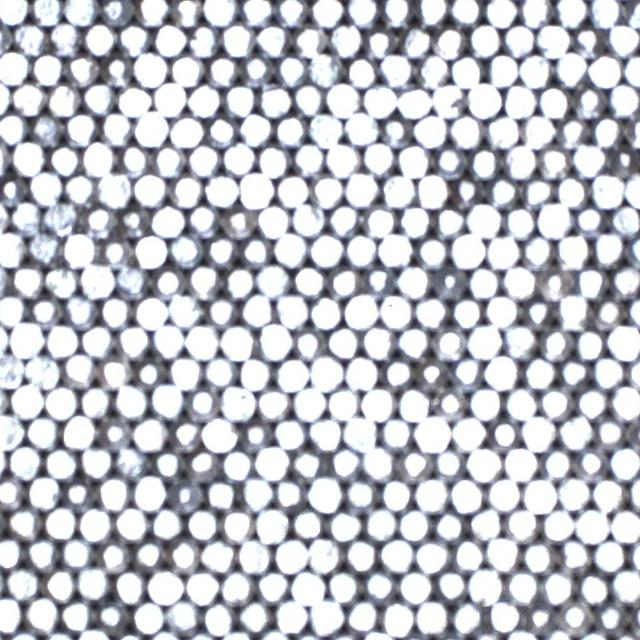tool: (256, 322, 292, 358), (97, 170, 132, 206), (505, 568, 540, 604), (503, 445, 538, 481), (342, 414, 377, 450), (379, 414, 414, 450), (306, 536, 341, 572), (273, 597, 308, 633), (151, 80, 186, 116), (570, 142, 606, 177), (414, 416, 450, 451), (449, 476, 484, 512), (484, 536, 519, 572), (184, 569, 219, 605), (413, 476, 448, 512), (504, 506, 539, 542), (236, 538, 272, 573), (132, 354, 168, 389), (343, 293, 378, 328), (520, 415, 555, 450), (219, 569, 254, 604), (166, 537, 201, 572), (326, 568, 361, 603), (148, 568, 183, 603), (169, 113, 204, 148), (290, 570, 325, 605), (485, 476, 520, 511), (220, 324, 255, 359), (557, 414, 592, 449), (396, 143, 431, 178), (466, 445, 501, 480), (62, 232, 97, 267), (396, 386, 431, 421), (79, 262, 114, 297), (255, 568, 290, 603), (466, 82, 501, 117), (467, 385, 502, 420), (466, 323, 501, 358), (379, 537, 414, 572), (219, 384, 254, 419), (540, 569, 575, 604), (413, 113, 448, 148), (486, 598, 521, 633), (133, 111, 168, 146), (378, 292, 412, 328), (398, 568, 432, 604), (468, 568, 502, 604), (556, 232, 590, 268), (484, 292, 518, 328), (344, 598, 380, 632), (25, 595, 59, 631), (520, 538, 556, 572), (166, 293, 202, 327), (502, 82, 536, 118), (308, 597, 342, 633), (522, 476, 556, 512), (26, 412, 60, 448), (78, 442, 112, 478), (360, 444, 394, 480), (9, 382, 43, 418), (7, 443, 41, 479), (236, 598, 272, 632), (557, 475, 591, 510), (307, 476, 341, 511), (204, 172, 238, 207), (116, 82, 150, 117), (291, 142, 325, 177), (43, 445, 77, 480), (520, 113, 554, 148), (344, 536, 378, 571), (44, 322, 79, 356), (80, 322, 114, 357), (131, 475, 166, 509), (151, 322, 185, 357), (327, 445, 361, 480), (202, 415, 236, 450), (396, 263, 430, 298), (503, 323, 537, 358), (116, 142, 151, 176), (556, 293, 590, 328), (256, 143, 290, 178), (221, 140, 255, 175), (202, 600, 236, 635), (450, 600, 484, 635), (325, 141, 359, 176), (151, 142, 185, 177), (201, 537, 235, 572), (449, 114, 484, 148), (274, 292, 308, 327), (291, 262, 326, 296), (5, 565, 39, 600), (361, 324, 395, 359), (396, 324, 431, 358), (256, 385, 290, 420), (114, 383, 148, 418), (274, 537, 308, 572), (432, 385, 466, 420), (80, 141, 114, 176), (574, 446, 608, 481), (344, 171, 379, 205), (557, 537, 591, 572), (308, 294, 342, 329), (165, 598, 200, 632), (432, 445, 466, 480), (574, 508, 608, 543), (415, 599, 449, 634), (378, 232, 412, 267), (536, 144, 570, 179), (62, 293, 97, 327), (344, 475, 378, 510), (131, 536, 165, 571), (150, 382, 184, 417), (204, 293, 238, 328), (450, 232, 484, 267), (326, 81, 360, 116), (432, 265, 467, 299), (308, 232, 342, 267), (238, 172, 272, 207), (520, 296, 554, 331), (558, 599, 593, 633), (44, 200, 78, 235), (344, 355, 378, 390), (468, 506, 502, 541), (9, 321, 43, 356), (539, 326, 573, 361), (273, 231, 307, 266), (591, 476, 625, 511), (168, 477, 203, 511), (362, 83, 397, 117), (361, 140, 395, 175), (362, 568, 396, 603), (594, 598, 628, 633), (326, 508, 361, 542), (220, 507, 254, 542), (522, 600, 557, 634), (589, 296, 624, 330), (61, 475, 95, 510), (42, 566, 76, 600), (76, 566, 110, 600), (326, 324, 360, 358), (255, 22, 289, 56), (254, 445, 288, 479), (153, 22, 187, 56), (26, 474, 60, 508), (381, 172, 415, 206), (96, 475, 130, 509), (221, 22, 255, 56), (26, 352, 60, 386), (78, 384, 112, 418), (204, 476, 238, 510), (132, 172, 166, 206), (344, 110, 378, 144), (574, 264, 608, 298), (380, 600, 414, 634), (291, 385, 325, 419), (98, 294, 132, 328), (255, 262, 289, 296), (44, 262, 78, 296), (503, 264, 537, 298), (451, 416, 485, 450), (12, 140, 46, 174), (309, 172, 343, 206), (239, 293, 273, 327), (204, 233, 238, 267), (520, 234, 554, 268), (44, 384, 78, 418), (432, 326, 466, 360), (275, 173, 309, 207), (308, 416, 342, 450), (430, 82, 464, 116), (168, 418, 202, 452), (116, 21, 150, 55), (467, 145, 501, 179), (169, 232, 203, 266), (308, 111, 342, 145), (379, 114, 413, 148), (397, 447, 431, 481), (256, 82, 290, 116), (415, 538, 449, 572), (504, 386, 538, 420), (484, 234, 518, 268), (115, 323, 149, 357), (77, 506, 111, 540), (291, 325, 325, 359), (467, 22, 501, 56), (432, 508, 466, 542), (254, 507, 288, 541), (291, 81, 325, 115), (205, 113, 239, 147), (293, 22, 327, 56), (239, 476, 273, 510), (433, 144, 467, 178), (415, 173, 449, 207), (379, 51, 413, 85), (169, 172, 203, 206), (61, 414, 95, 448), (486, 114, 520, 148), (484, 354, 518, 388), (98, 414, 132, 448), (132, 416, 166, 450), (10, 262, 44, 296), (114, 444, 148, 478), (116, 262, 150, 296), (12, 20, 46, 54), (308, 50, 342, 84), (308, 355, 342, 389), (94, 598, 128, 632), (27, 230, 61, 264), (132, 51, 166, 85), (415, 234, 449, 268), (43, 504, 77, 538), (553, 51, 587, 85), (518, 53, 552, 87), (590, 173, 624, 207), (59, 598, 93, 632), (61, 352, 95, 386), (345, 53, 379, 87), (360, 386, 394, 420), (290, 446, 324, 480), (380, 355, 414, 389), (168, 354, 202, 388), (114, 506, 148, 540), (274, 357, 308, 391), (238, 356, 272, 390), (414, 295, 448, 329), (538, 385, 572, 419), (538, 266, 572, 300), (587, 53, 621, 87), (132, 232, 166, 266), (398, 202, 432, 236), (540, 506, 574, 540), (184, 506, 218, 540), (9, 200, 43, 234), (415, 357, 449, 391), (274, 52, 308, 86), (449, 356, 483, 390), (8, 505, 42, 539), (115, 204, 149, 238), (186, 203, 220, 237), (590, 354, 624, 388), (362, 506, 396, 540), (450, 54, 484, 88), (184, 385, 218, 419), (361, 262, 395, 296), (503, 143, 536, 178), (25, 535, 58, 570), (185, 323, 218, 358), (451, 537, 484, 572), (327, 385, 360, 420), (434, 567, 467, 602), (134, 295, 167, 330), (100, 234, 133, 269), (487, 416, 520, 451), (150, 204, 185, 237), (540, 446, 573, 481), (186, 142, 219, 177), (186, 447, 219, 482), (329, 22, 362, 56), (607, 22, 640, 56), (536, 22, 569, 56), (380, 476, 413, 510), (450, 294, 483, 328), (577, 570, 610, 604), (503, 22, 536, 56), (49, 20, 82, 54), (397, 84, 430, 118), (223, 264, 256, 298), (555, 174, 588, 208), (328, 264, 361, 298), (29, 169, 62, 203), (220, 447, 253, 481), (274, 416, 307, 450), (572, 85, 606, 118), (274, 112, 307, 146), (467, 265, 501, 298), (46, 82, 80, 115), (131, 599, 164, 633), (153, 265, 186, 299), (344, 232, 377, 266), (556, 116, 589, 150), (607, 82, 640, 116), (256, 203, 290, 236), (239, 112, 272, 146), (202, 354, 236, 387), (432, 25, 466, 58), (29, 293, 62, 327), (273, 475, 306, 509), (12, 80, 45, 114), (327, 202, 361, 235), (573, 325, 606, 359), (187, 265, 220, 299), (97, 538, 130, 572), (291, 201, 325, 234), (520, 174, 554, 207), (81, 81, 115, 114), (398, 24, 432, 57), (150, 447, 184, 480), (187, 82, 220, 116), (593, 538, 626, 572), (63, 171, 96, 205), (467, 202, 500, 236), (65, 52, 98, 86), (556, 356, 590, 389), (537, 84, 570, 118), (537, 202, 570, 236), (220, 205, 253, 239), (485, 52, 518, 86), (113, 570, 146, 604), (98, 355, 132, 388), (187, 22, 220, 56), (169, 52, 203, 85), (239, 52, 272, 86), (150, 506, 183, 540), (503, 204, 536, 238), (290, 506, 324, 539), (572, 202, 606, 235), (522, 356, 555, 390), (362, 203, 396, 236), (397, 507, 431, 540), (59, 535, 92, 569), (238, 418, 272, 451), (590, 114, 623, 148), (570, 22, 603, 56), (64, 111, 97, 144), (82, 21, 115, 54), (30, 112, 63, 145), (222, 83, 255, 116), (31, 51, 64, 84), (485, 175, 518, 208), (205, 53, 238, 86), (432, 205, 465, 238), (607, 143, 640, 176), (82, 204, 115, 237), (451, 175, 484, 208), (608, 324, 640, 358), (100, 110, 132, 144), (416, 52, 448, 86), (363, 26, 397, 58), (100, 54, 132, 88), (48, 143, 80, 176), (576, 385, 608, 418), (592, 231, 624, 264), (240, 234, 272, 267), (609, 444, 640, 478), (609, 384, 640, 418), (609, 508, 640, 542), (609, 264, 640, 298), (592, 416, 624, 448), (609, 202, 640, 235), (611, 568, 640, 602), (0, 50, 29, 84), (0, 110, 28, 144), (310, 0, 344, 28), (588, 0, 621, 28), (0, 172, 28, 205), (0, 292, 27, 326), (274, 0, 308, 27), (518, 0, 552, 27), (0, 230, 25, 266), (484, 0, 517, 27), (169, 0, 202, 27), (136, 0, 169, 27), (554, 0, 588, 26), (344, 0, 378, 26), (100, 0, 134, 26), (240, 0, 274, 26), (0, 351, 25, 386), (0, 412, 24, 448), (380, 0, 413, 26), (449, 0, 482, 26), (64, 0, 98, 25), (0, 474, 25, 508), (29, 0, 62, 25), (415, 0, 448, 25), (203, 0, 237, 24), (0, 534, 24, 568), (0, 596, 22, 632), (0, 0, 29, 24), (622, 53, 640, 87), (624, 115, 640, 148), (625, 172, 640, 207), (622, 0, 640, 28), (0, 22, 13, 54)
